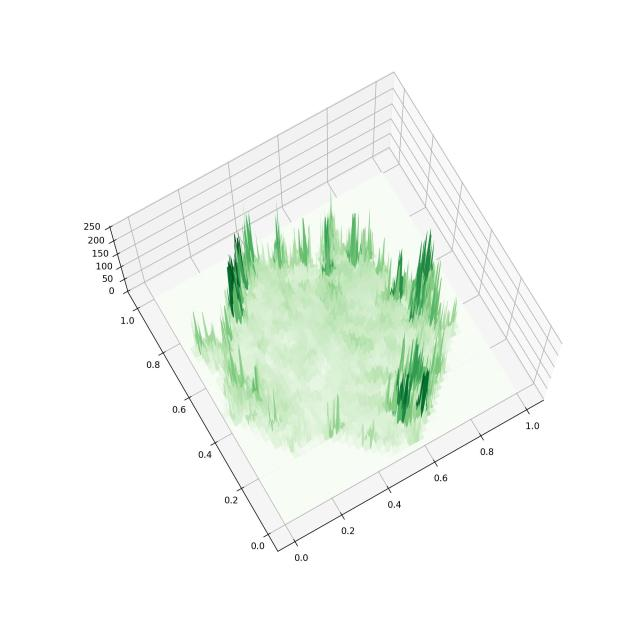spruce: (60, 51, 603, 604)
